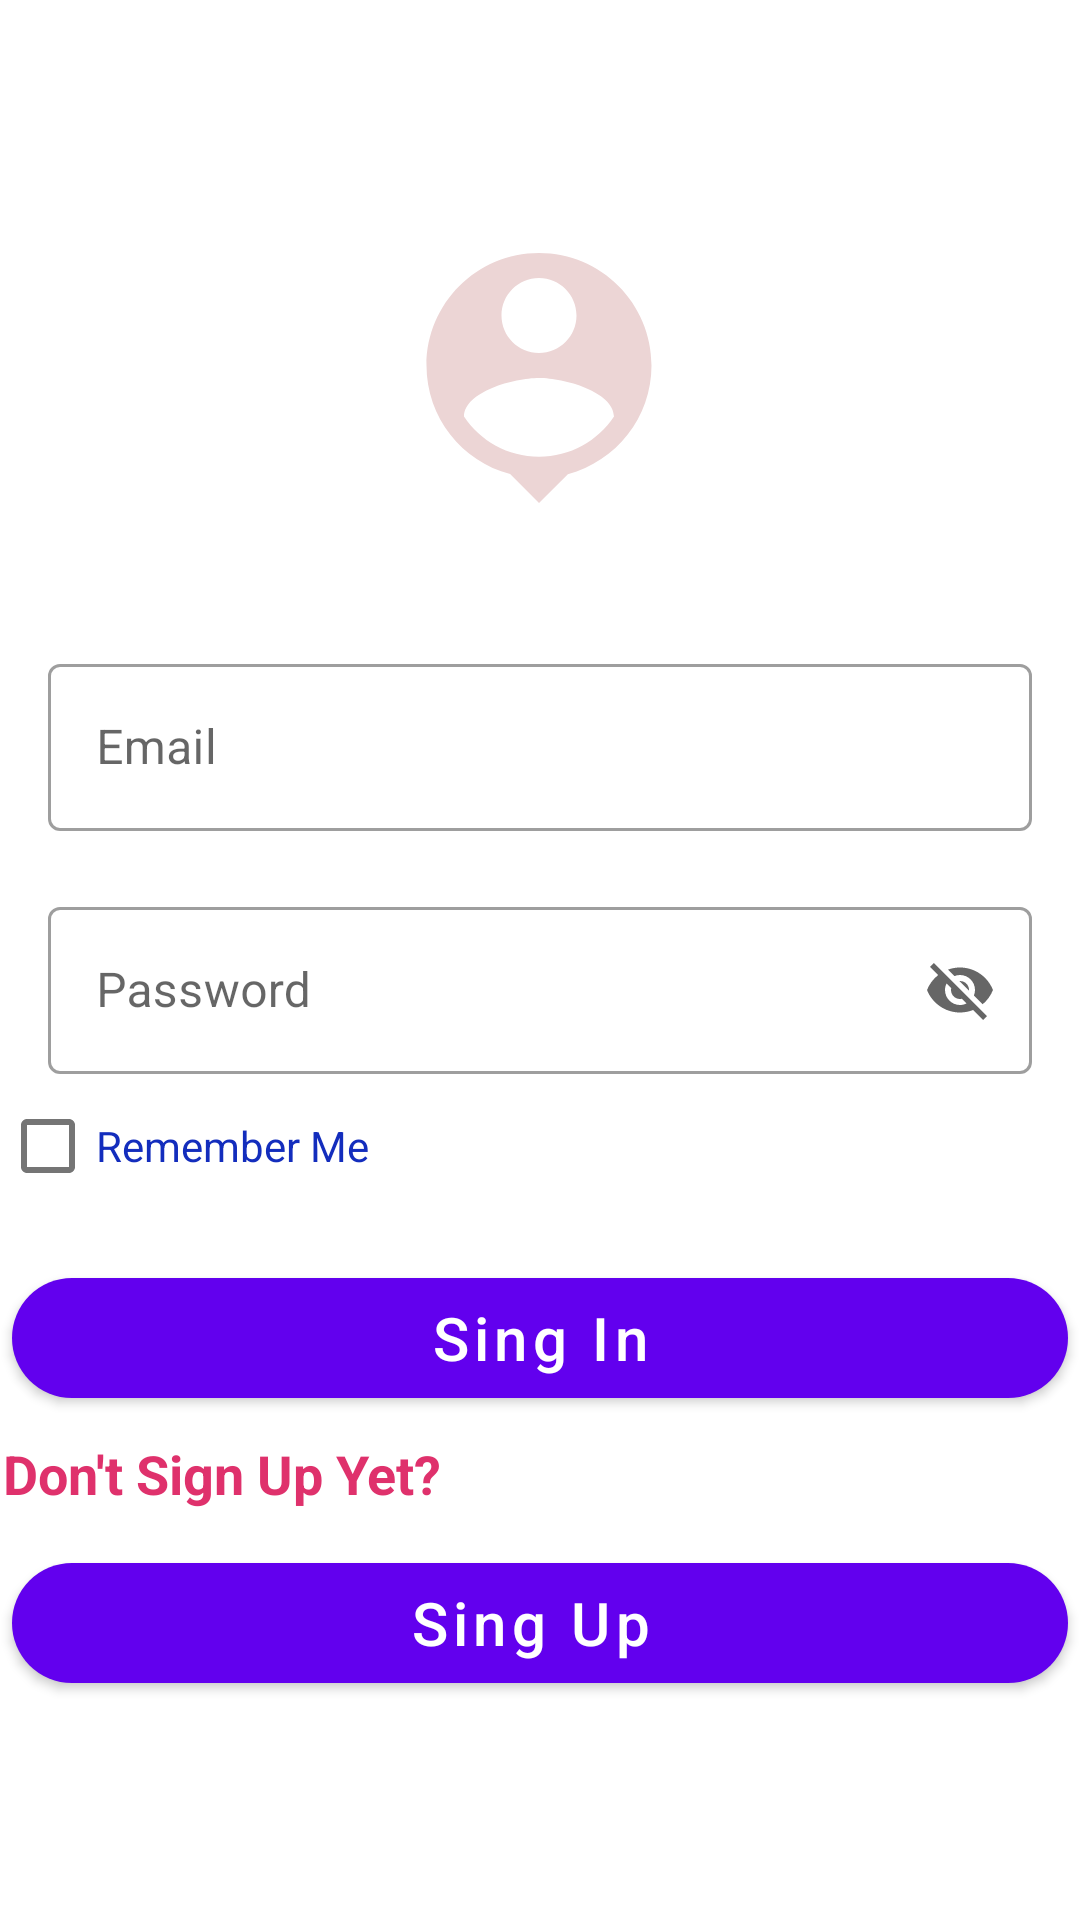

Locate icon controls on the screen. Image size 1080×1920, boxes as {"x1": x1, "y1": y1, "x2": x2, "y2": y2}.
person pin: {"x1": 426, "y1": 253, "x2": 651, "y2": 502}
